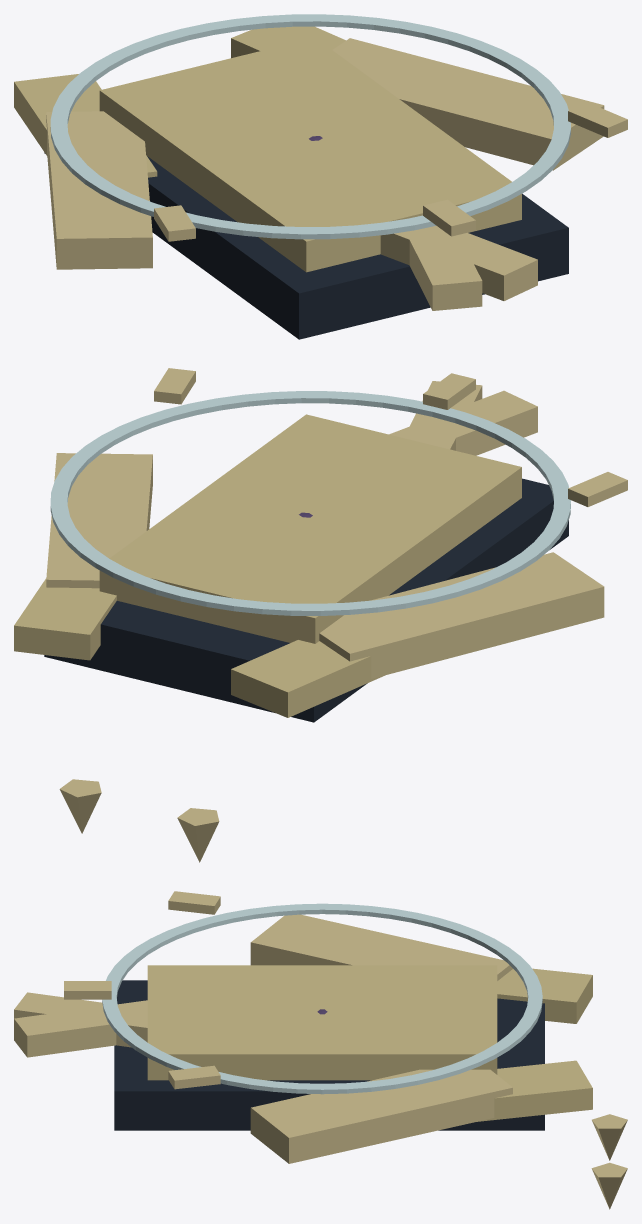
File: helias_celestial_ark.glb
3 renders of one model, top to bottom at view 1: azimuth 30°, elevation 25°; view 2: azimuth 150°, elevation 25°; view 3: azimuth 270°, elevation 25°, orthographic. The views are drawn at different scales.
Parts seen in each view (by area): view 1: hull, hull_shadow, shield_arc, side_-1, side_1, prow_1, prow_-1, rear_side_1, rear_side_-1, interceptor_0, interceptor_2, interceptor_1; view 2: hull, hull_shadow, shield_arc, side_1, side_-1, rear_side_1, rear_side_-1, prow_-1, prow_1, prow_tip_-1, interceptor_1, prow_tip_1 (+2 smaller); view 3: hull, side_-1, hull_shadow, shield_arc, side_1, rear_side_-1, prow_1, rear_side_1, prow_-1, interceptor_0, interceptor_1, interceptor_2 (+2 smaller).
Boxes of the visible parts, box(x1,y1,x2,y2) form: hull: box(99, 37, 521, 272); hull_shadow: box(44, 152, 568, 339); shield_arc: box(50, 14, 570, 239); side_-1: box(332, 38, 604, 170); side_1: box(46, 111, 152, 269); prow_1: box(380, 225, 537, 300); prow_-1: box(409, 234, 482, 310); rear_side_1: box(14, 74, 157, 177); rear_side_-1: box(231, 26, 345, 58); interceptor_0: box(568, 102, 627, 137); interceptor_2: box(423, 199, 475, 236); interceptor_1: box(154, 205, 195, 241); hull: box(99, 414, 521, 643); hull_shadow: box(44, 478, 568, 722); shield_arc: box(50, 391, 570, 615); side_1: box(319, 552, 604, 678); side_-1: box(46, 453, 152, 588); rear_side_1: box(231, 640, 384, 717); rear_side_-1: box(14, 578, 116, 660); prow_-1: box(389, 390, 537, 455); prow_1: box(404, 381, 482, 450); prow_tip_-1: box(59, 779, 101, 833); interceptor_1: box(568, 472, 627, 506); prow_tip_1: box(177, 808, 219, 862); hull: box(147, 965, 497, 1080); side_-1: box(250, 1069, 512, 1163); hull_shadow: box(114, 980, 544, 1130); shield_arc: box(102, 903, 542, 1094); side_1: box(250, 914, 512, 980); rear_side_-1: box(477, 1060, 592, 1121); prow_1: box(14, 1000, 147, 1057); rear_side_1: box(497, 968, 592, 1023); prow_-1: box(14, 992, 147, 1047); interceptor_0: box(168, 1065, 220, 1089); interceptor_1: box(168, 891, 220, 914); interceptor_2: box(64, 981, 111, 999).
Bounding box in the file's own units: 2.23 × 0.92 × 2.56.
